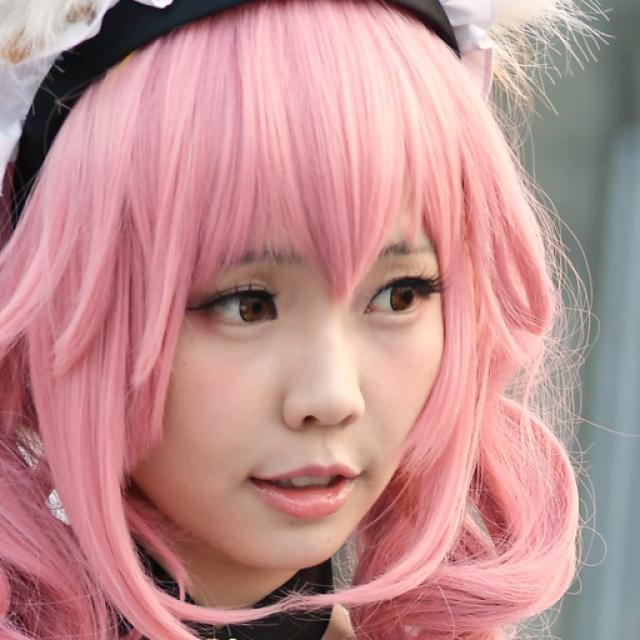neutral: (135, 83, 450, 572)
